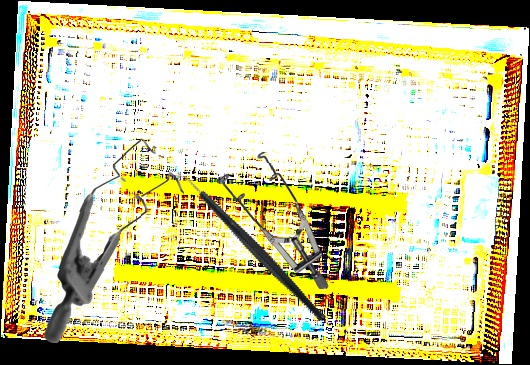Chopper: (167, 140, 327, 353)
Speculum: (39, 136, 187, 344), (215, 150, 329, 291)
